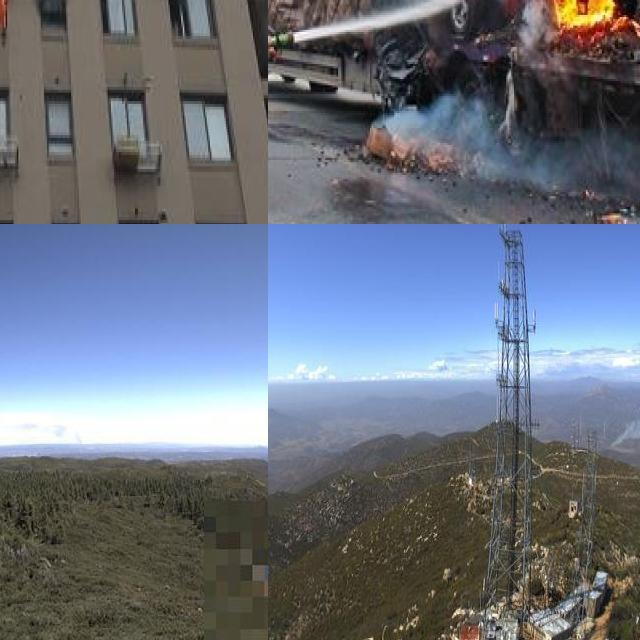smoke: (377, 94, 640, 190), (604, 388, 640, 444), (17, 418, 86, 446)
